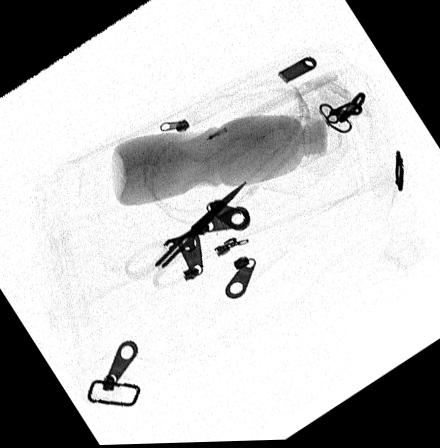Scissors: (119, 180, 251, 294)
